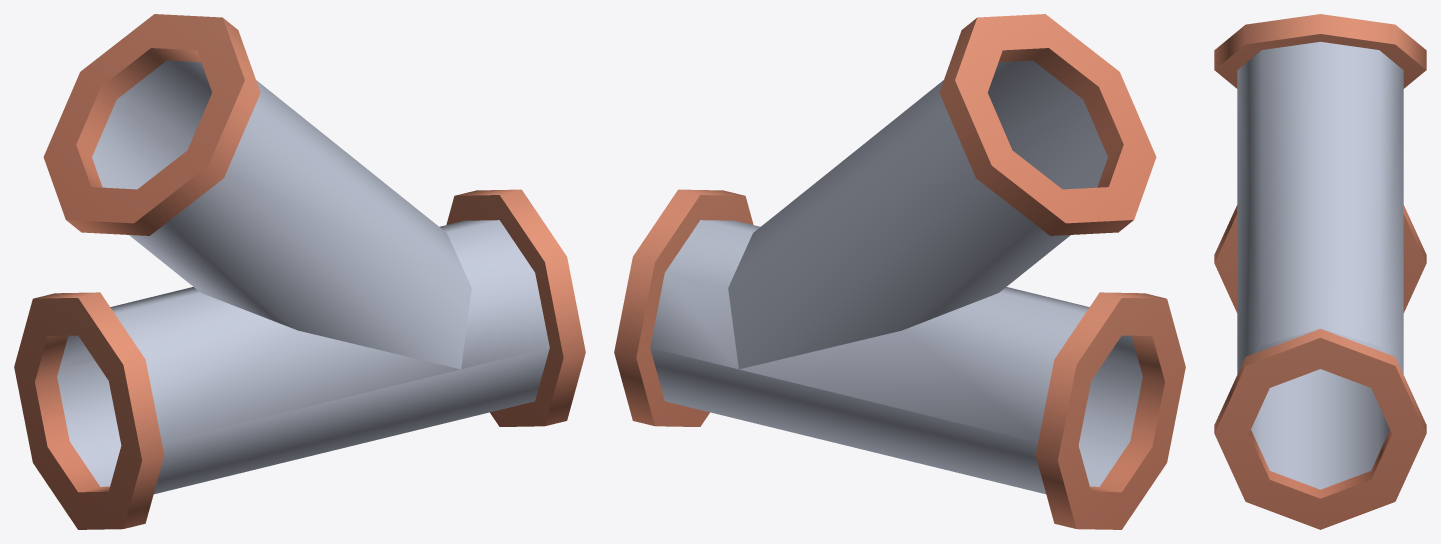
The model's file is pipe-glass-large-junction.obj.
3 views of the same model, side by side, from view 1: azimuth 30°, elevation 25°; view 2: azimuth 150°, elevation 25°; view 3: azimuth 270°, elevation 25° (orthographic). The views are drawn at different scales.
Parts seen in each view (by area): view 1: pipe-glass-large-junction; view 2: pipe-glass-large-junction; view 3: pipe-glass-large-junction.
Boxes of the visible parts, <box> form: pipe-glass-large-junction: <box>14,14,585,529</box>; pipe-glass-large-junction: <box>614,14,1185,529</box>; pipe-glass-large-junction: <box>1214,14,1426,529</box>.
Size of the model in its own units: 2.06 by 2.06 by 1.
